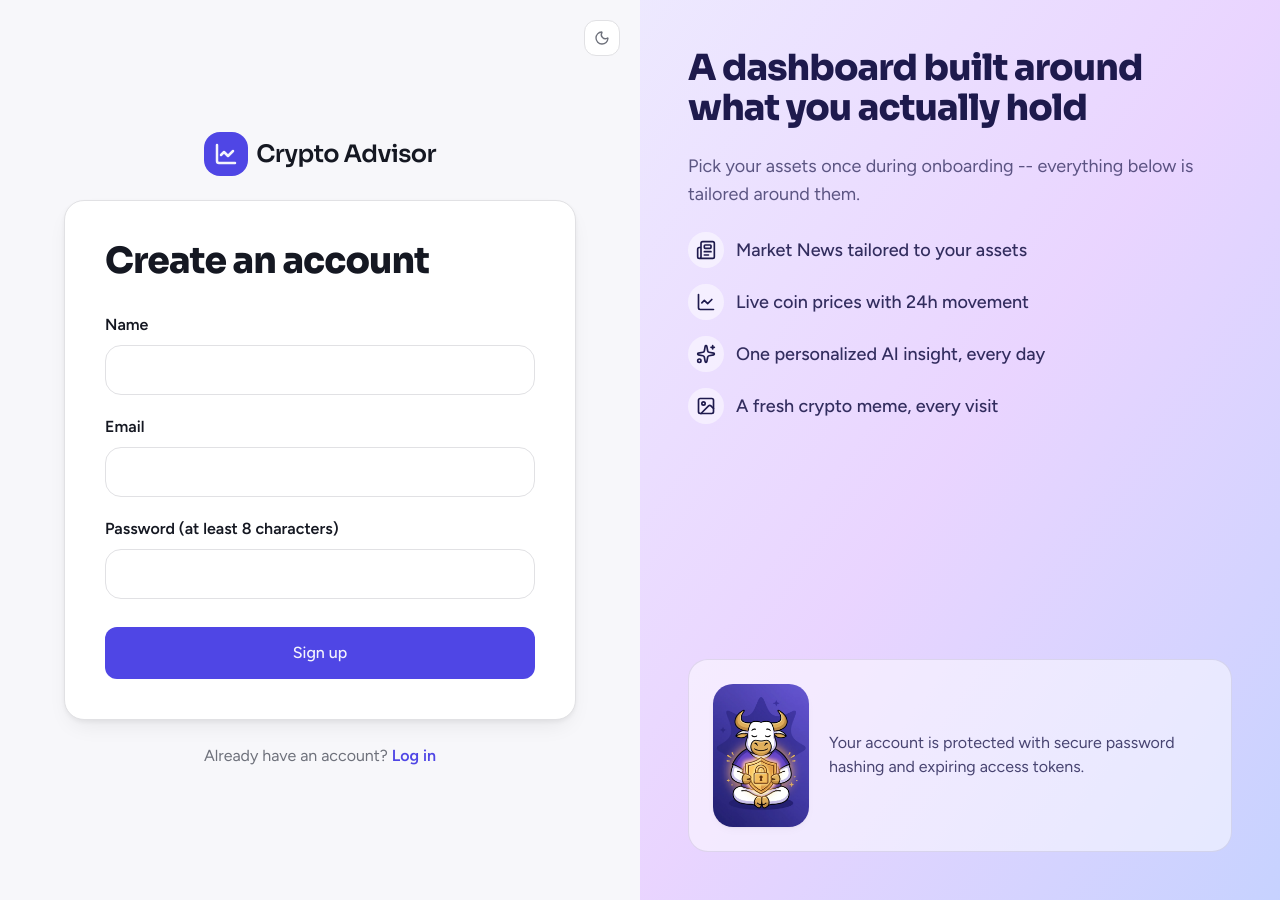
Test case: SignupPage › shows a safe error message when signup fails
Type "Roy Meoded" into the field labelled "Name" at [320, 370], box [105,345,535,395]
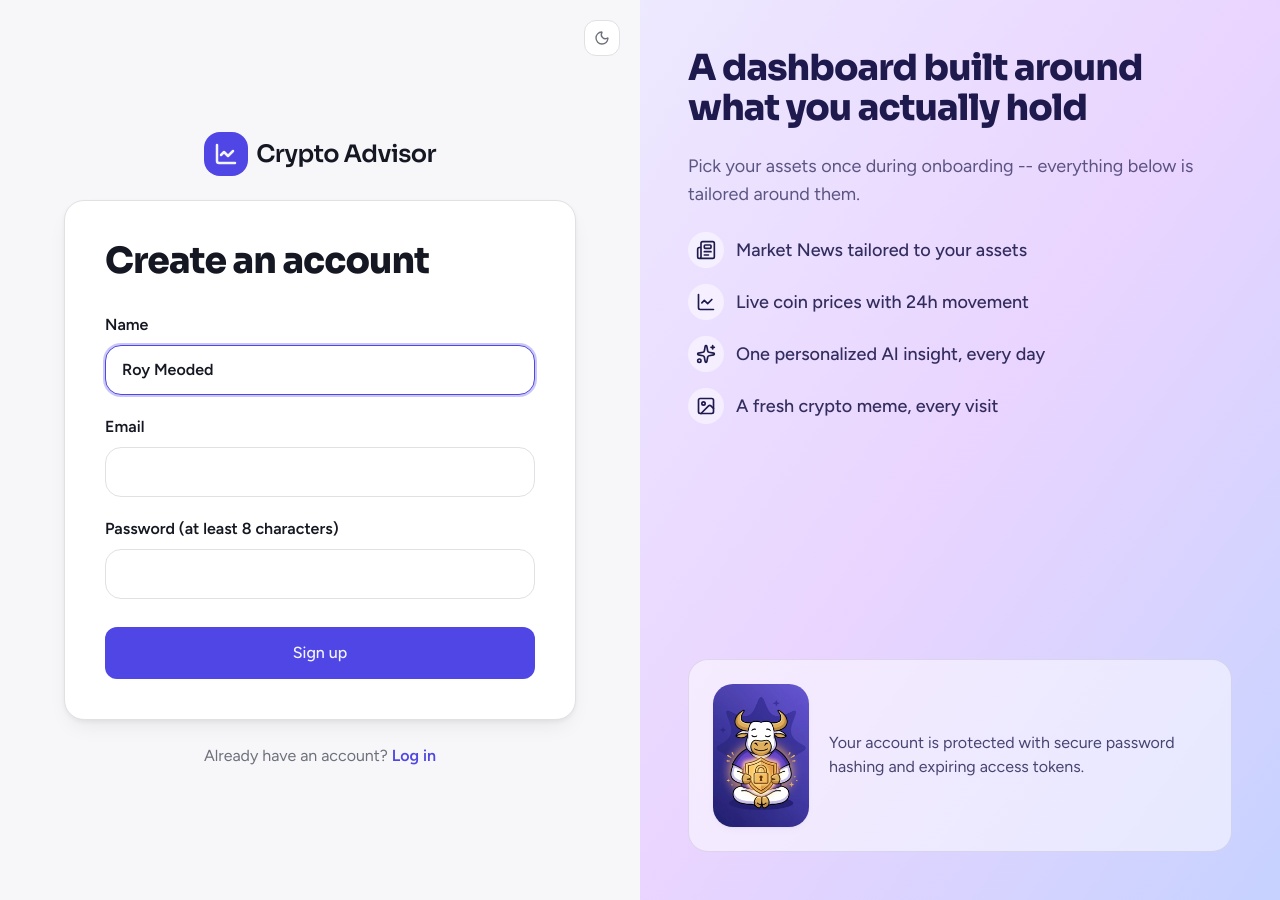
Type "roy@example.com" into the field labelled "Email" at [320, 472], box [105,447,535,497]
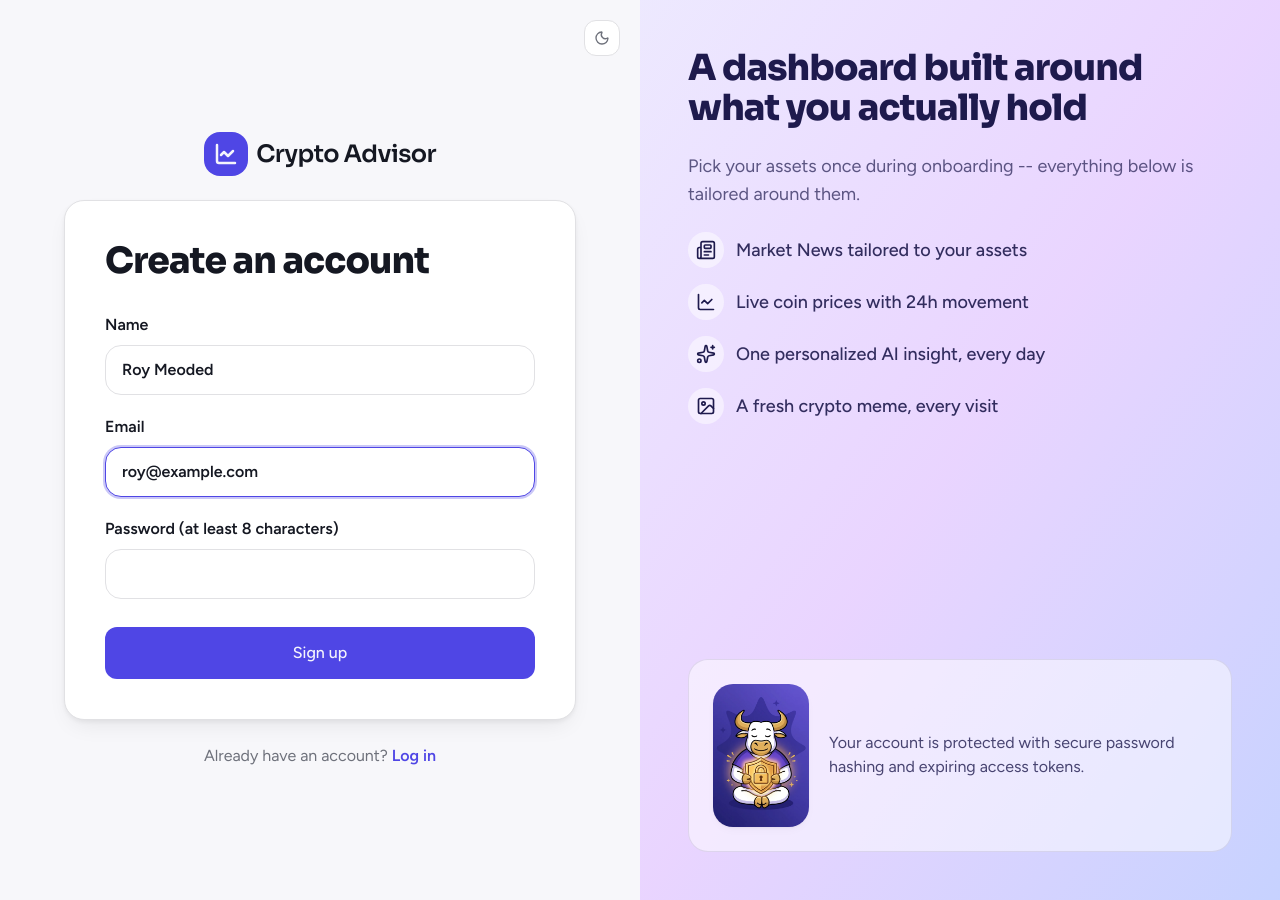
Type "correct-horse" into the password field labelled "Password (at least 8 characters)" at [320, 574], box [105,549,535,599]
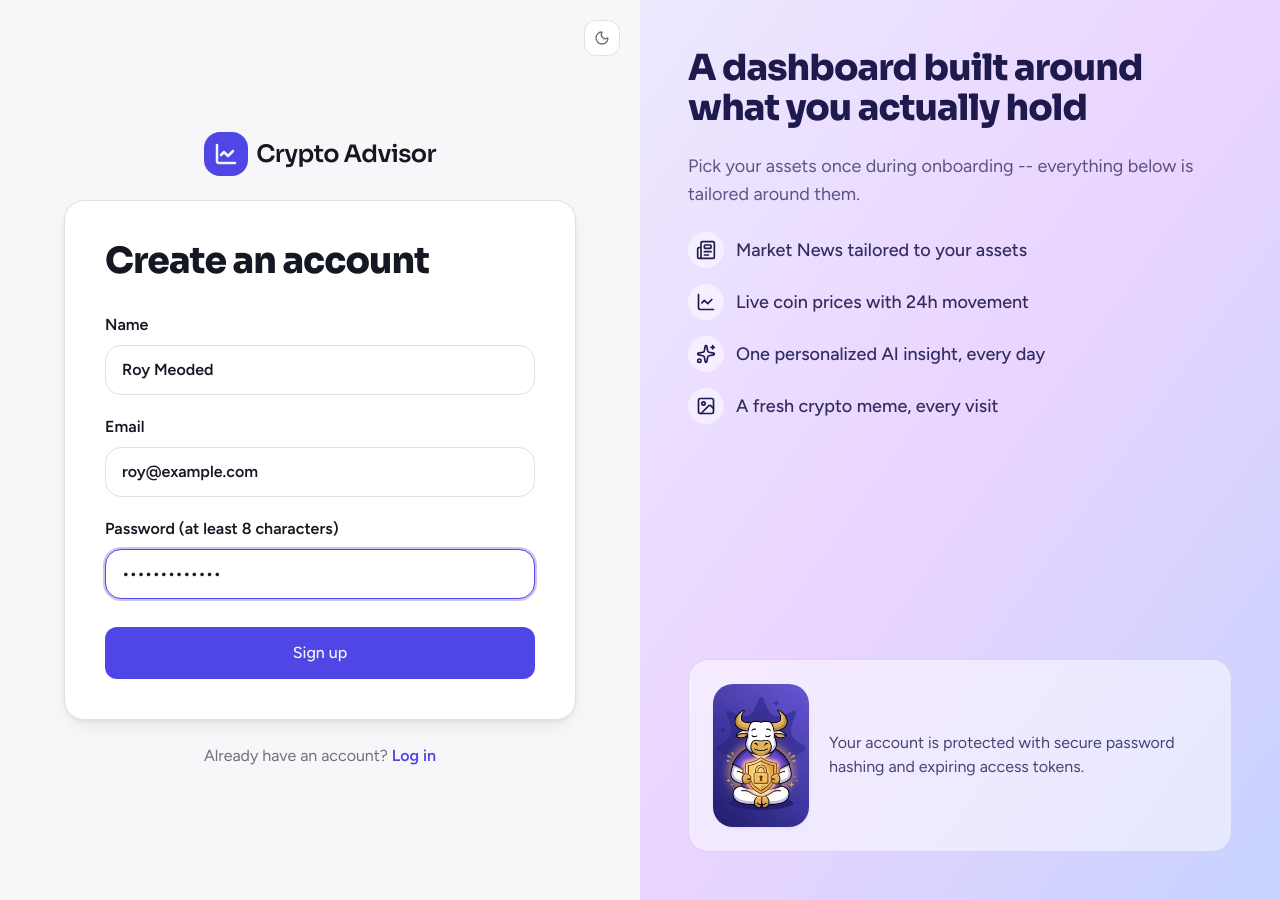
Click the button "Sign up" at [320, 653], box [105,627,535,679]
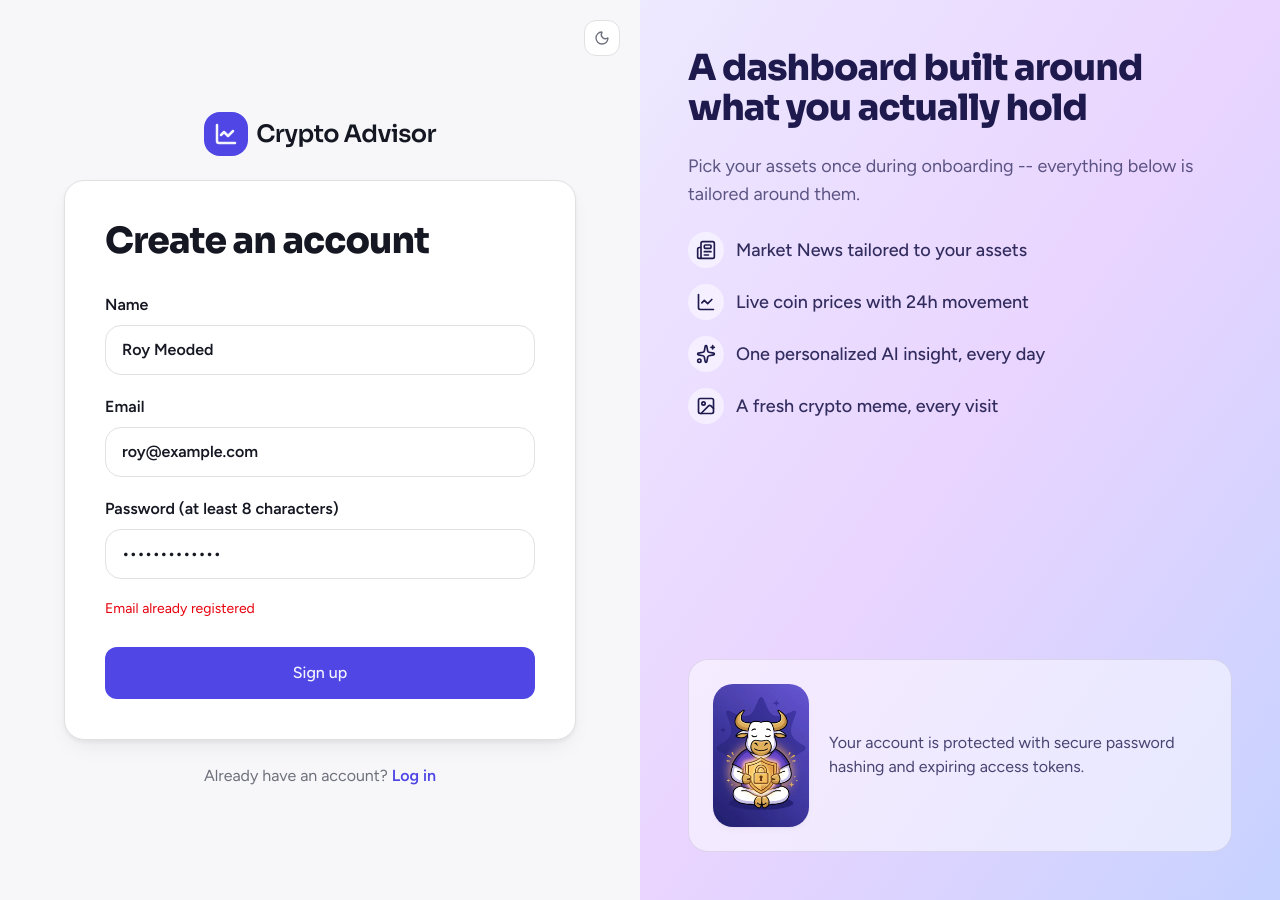
Result: the message reads "Email already registered" at [105,600,255,617]
